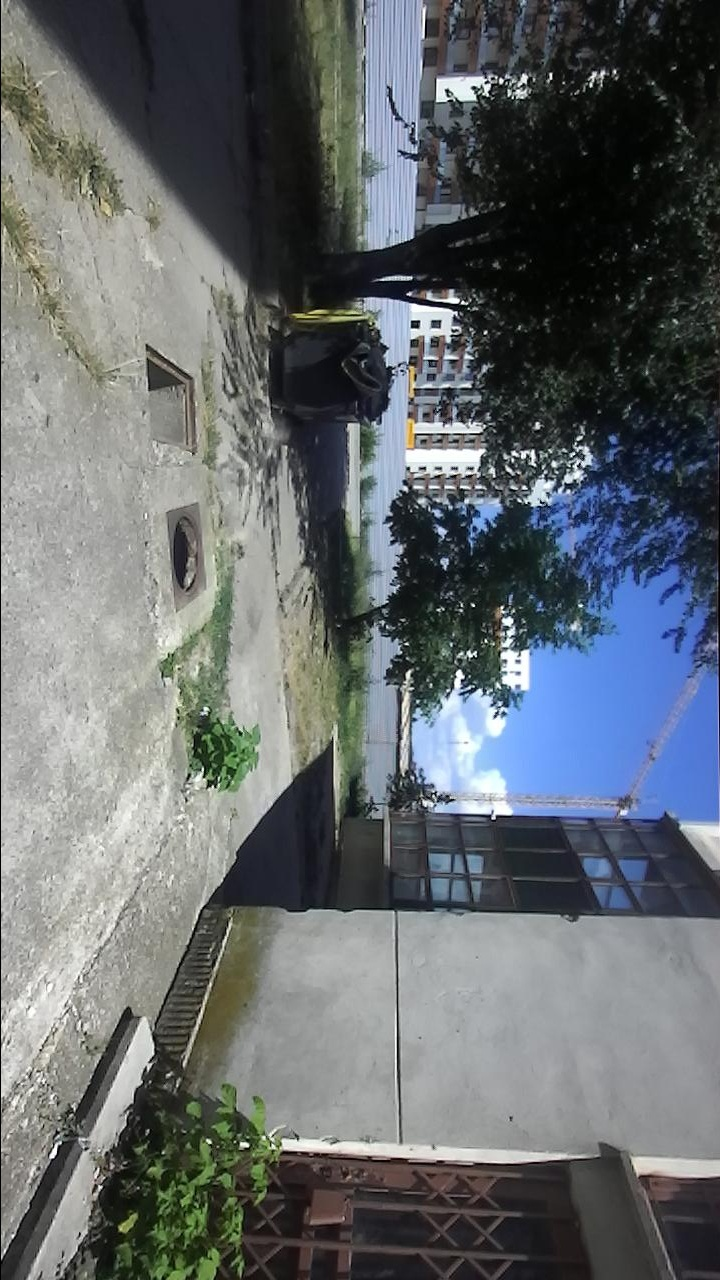drain: (136, 339, 205, 460), (169, 514, 203, 600)
